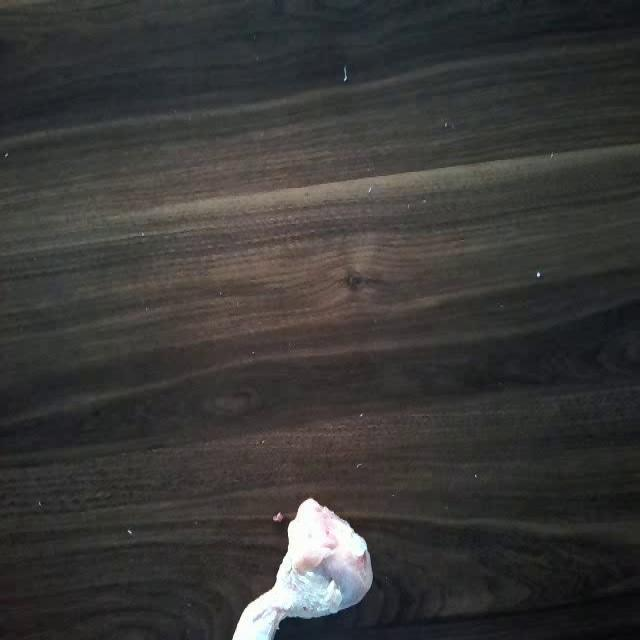leg: (240, 496, 374, 640)
